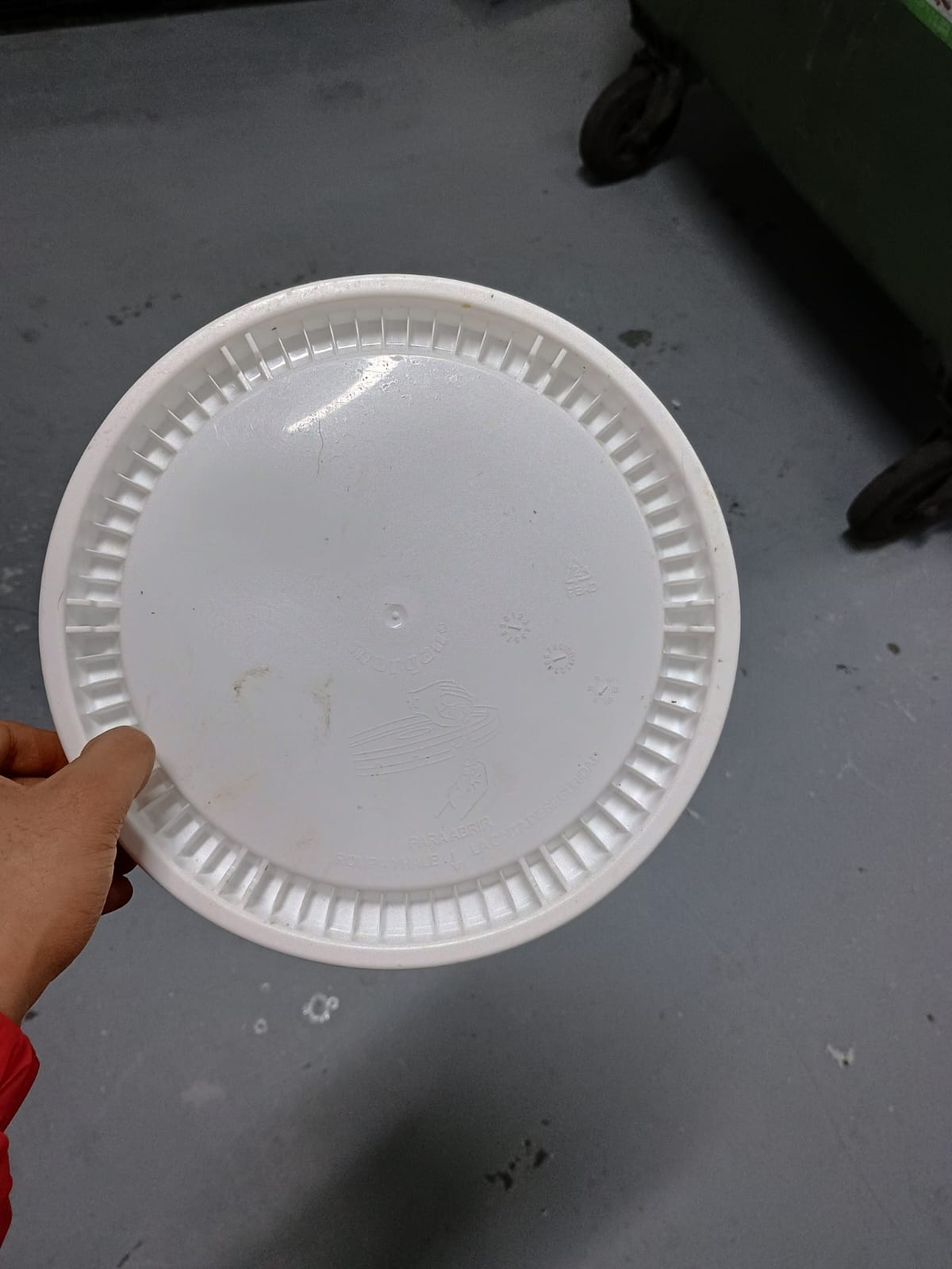Plastico: (41, 273, 744, 968)
